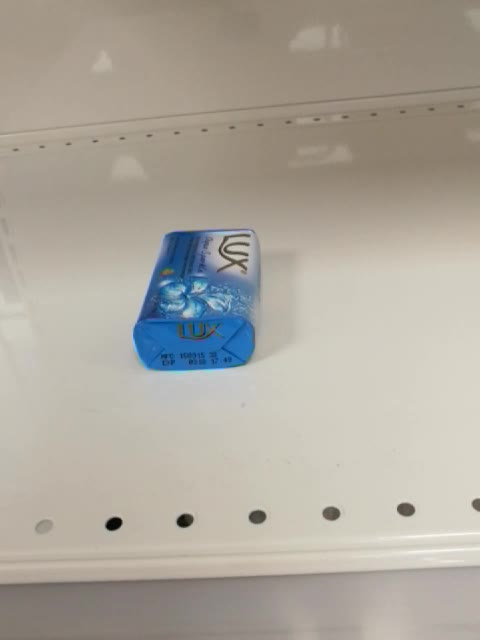soap: (130, 225, 261, 371)
